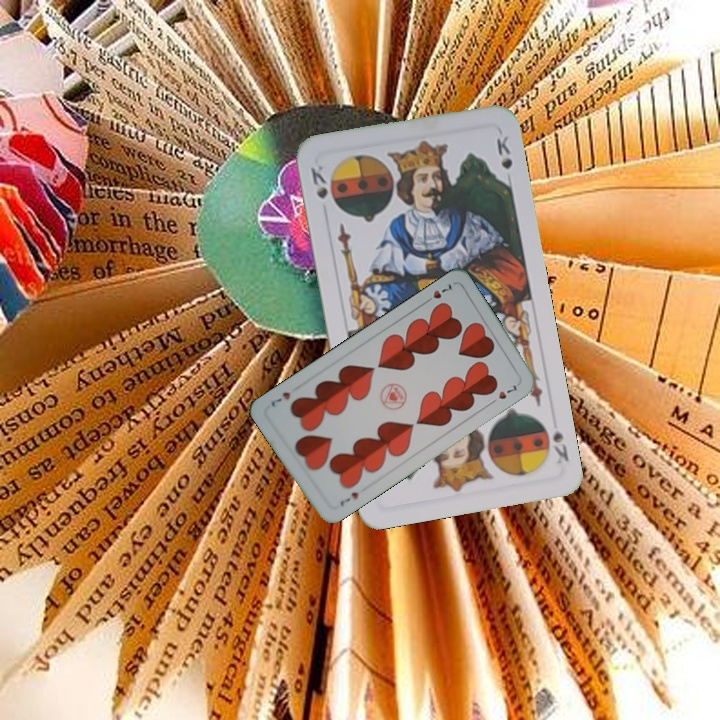H7: (420, 279, 456, 307), (336, 488, 361, 509)
SK: (306, 161, 330, 201), (548, 427, 572, 466)
